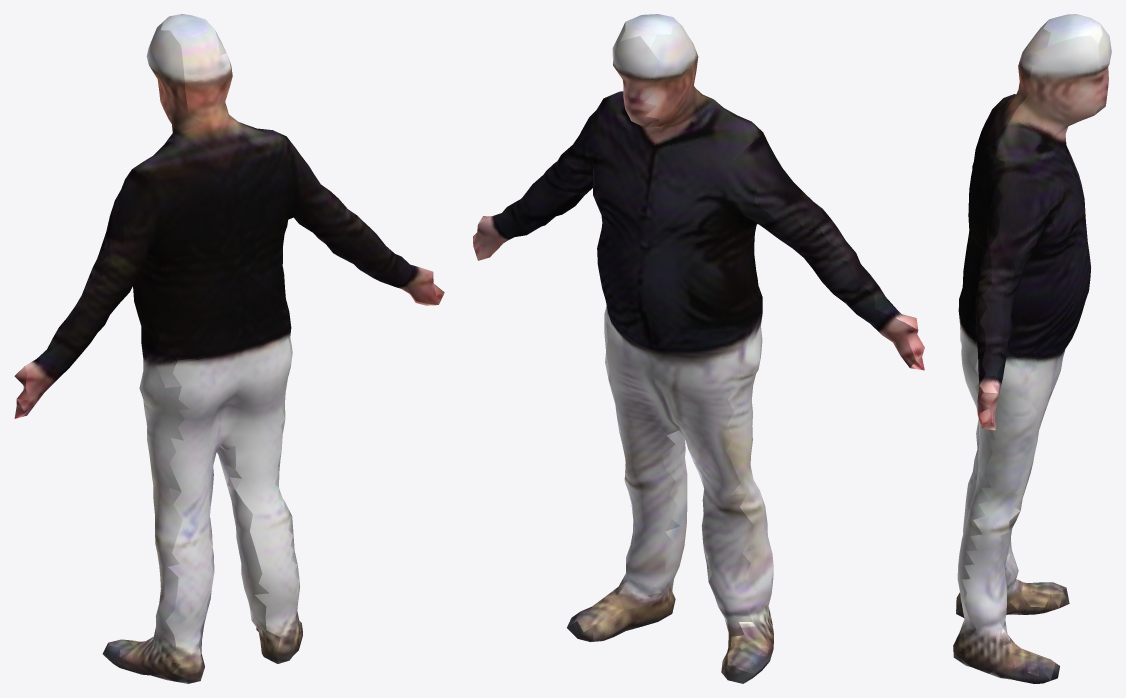
The picture shows the model from 3 angles, left to right: view 1: azimuth 30°, elevation 25°; view 2: azimuth 150°, elevation 25°; view 3: azimuth 270°, elevation 25°; orthographic projection. The views are drawn at different scales.
Parts seen in each view (by area): view 1: world; view 2: world; view 3: world.
Part boxes in pixels (x1,y1,x2,y2): world: (14,14,444,683); world: (473,14,924,683); world: (953,14,1111,683).
Size of the model in its own units: 0.7302 by 1.01 by 0.2307.
1 material, 1 textured.
